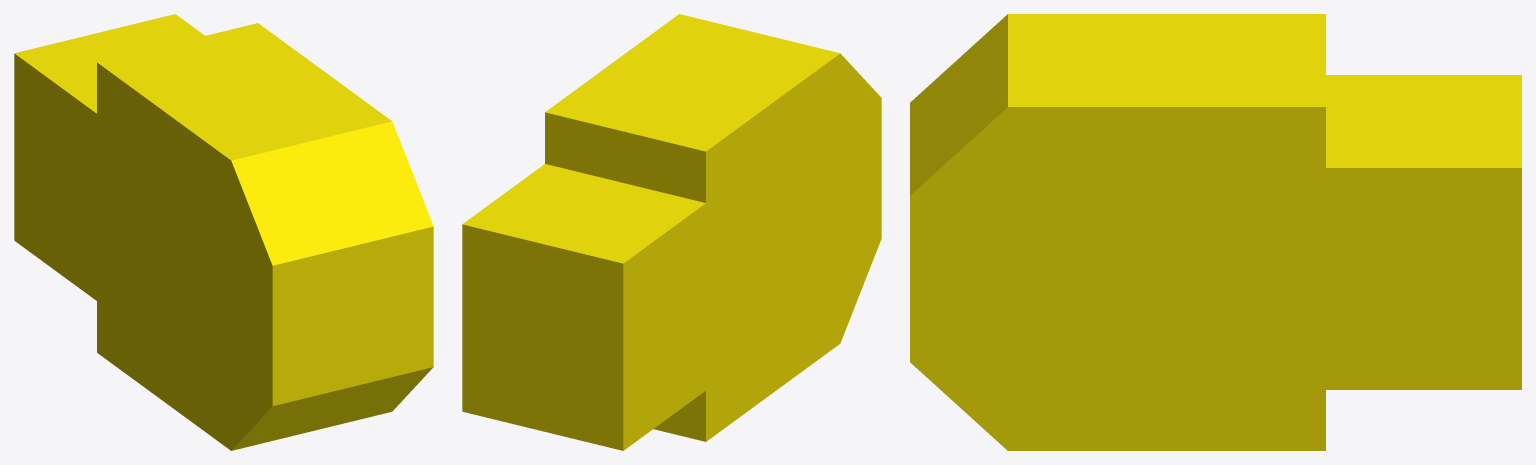
The model's file is modelo_didático_7.glb.
3 renders of one model, left to right at view 1: azimuth 30°, elevation 25°; view 2: azimuth 150°, elevation 25°; view 3: azimuth 270°, elevation 25°, orthographic. The views are drawn at different scales.
Parts seen in each view (by area): view 1: Modelo didatico 7.SLDPRT; view 2: Modelo didatico 7.SLDPRT; view 3: Modelo didatico 7.SLDPRT.
Boxes of the visible parts, left/top/right/bottom form: Modelo didatico 7.SLDPRT: left=14, top=14, right=433, bottom=450; Modelo didatico 7.SLDPRT: left=462, top=14, right=881, bottom=450; Modelo didatico 7.SLDPRT: left=910, top=14, right=1521, bottom=450.
Bounding box in the file's own units: 0.018 × 0.031 × 0.05.
